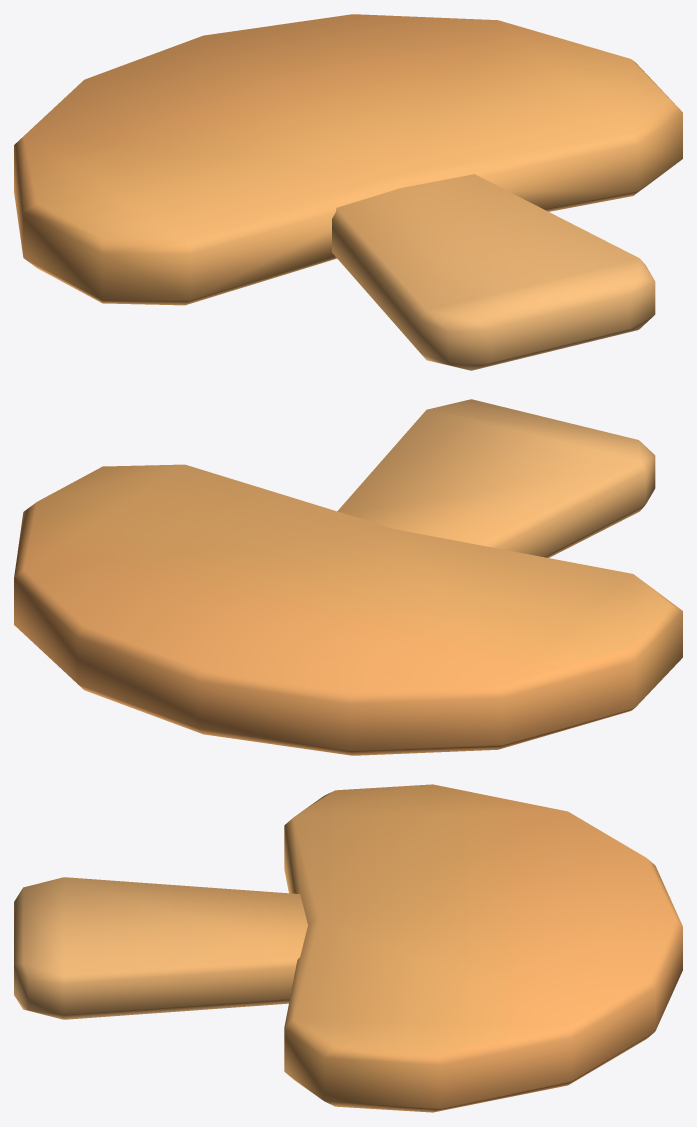
The model's file is Mushroom_slice_01.003.fbx.
3 renders of one model, top to bottom at view 1: azimuth 30°, elevation 25°; view 2: azimuth 150°, elevation 25°; view 3: azimuth 270°, elevation 25°, orthographic. The views are drawn at different scales.
Parts seen in each view (by area): view 1: Mushroom_slice_01.003; view 2: Mushroom_slice_01.003; view 3: Mushroom_slice_01.003.
Part boxes in pixels (x1=…): Mushroom_slice_01.003: x1=14, y1=14, x2=682, y2=370; Mushroom_slice_01.003: x1=14, y1=399, x2=682, y2=755; Mushroom_slice_01.003: x1=14, y1=784, x2=682, y2=1112.
Size of the model in its own units: 43.36 by 44.31 by 4.35.
